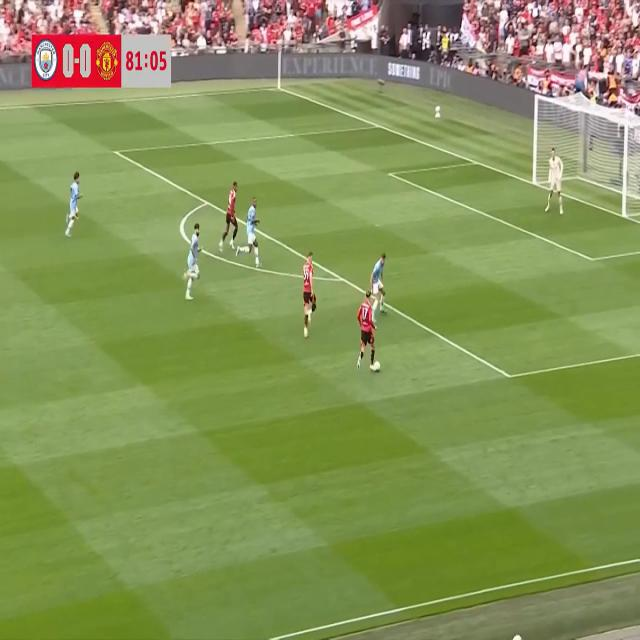ball: (371, 356, 382, 378)
goal_keeper: (539, 144, 572, 230)
players: (296, 239, 328, 345), (236, 192, 268, 271), (182, 208, 208, 302), (354, 281, 378, 374), (64, 160, 88, 246), (218, 174, 242, 258), (368, 245, 388, 329)
